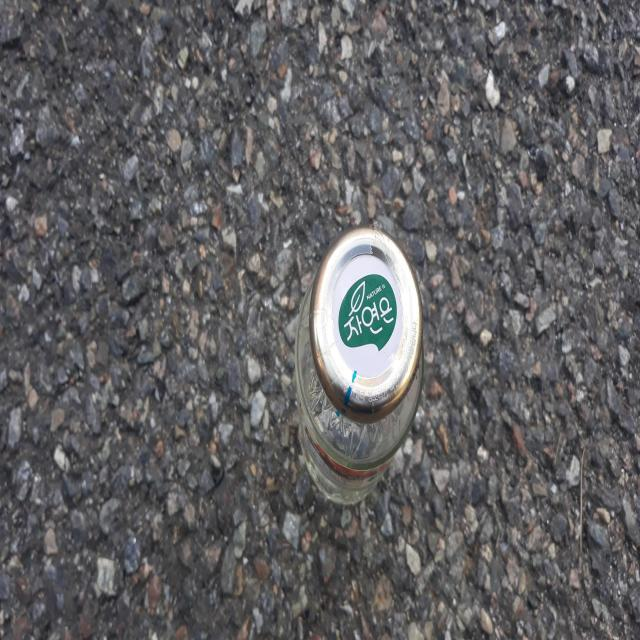glass: (296, 226, 424, 505)
